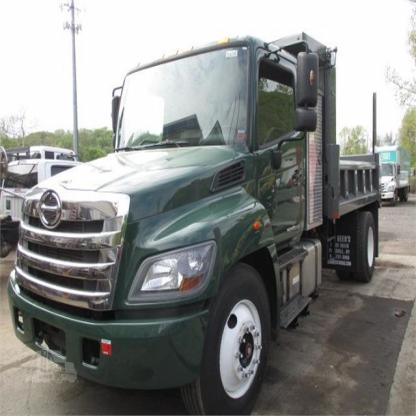dump_truck: (6, 27, 413, 407)
